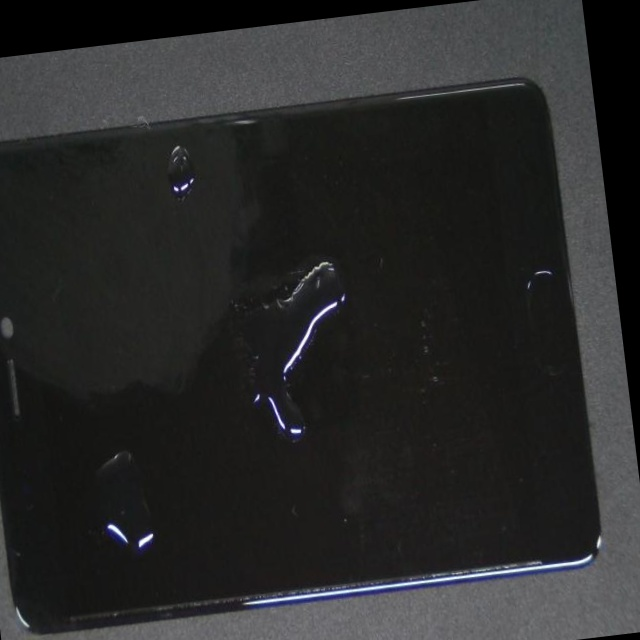oil: (72, 203, 415, 625), (67, 273, 259, 640), (81, 75, 314, 191)
